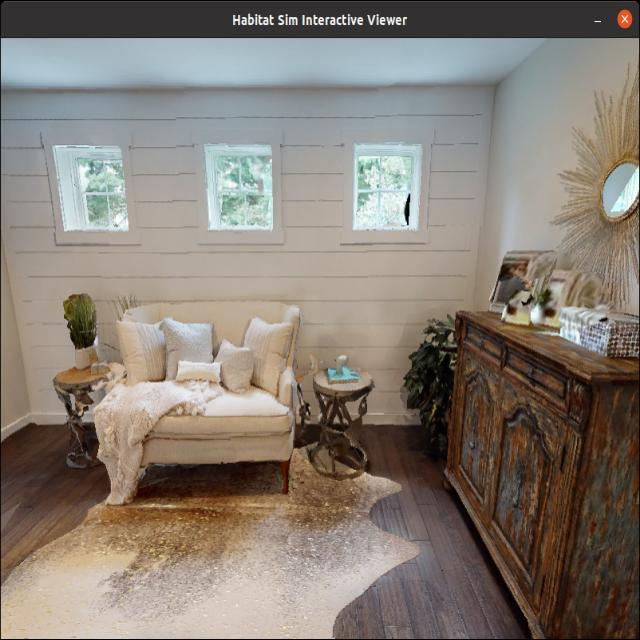sofa: (103, 281, 305, 490)
